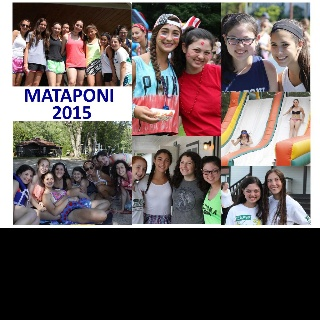without_mask: (271, 30, 296, 66), (185, 39, 212, 67), (156, 23, 179, 51), (179, 155, 193, 175), (155, 152, 169, 171), (19, 168, 32, 183), (132, 26, 143, 42), (38, 160, 49, 172), (43, 174, 53, 187), (115, 163, 124, 175), (54, 164, 62, 177), (97, 156, 108, 165), (74, 20, 82, 31), (52, 23, 60, 33), (72, 171, 80, 181), (110, 38, 118, 48), (38, 21, 45, 31), (87, 28, 94, 37), (62, 23, 68, 33), (100, 36, 106, 45), (241, 132, 245, 137), (224, 183, 227, 189), (293, 101, 296, 104)
